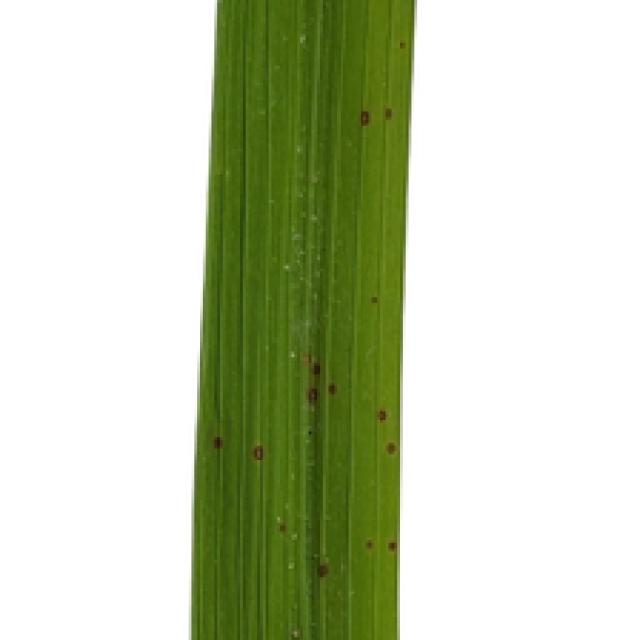Rice___Brown_Spot: (190, 0, 416, 637)
